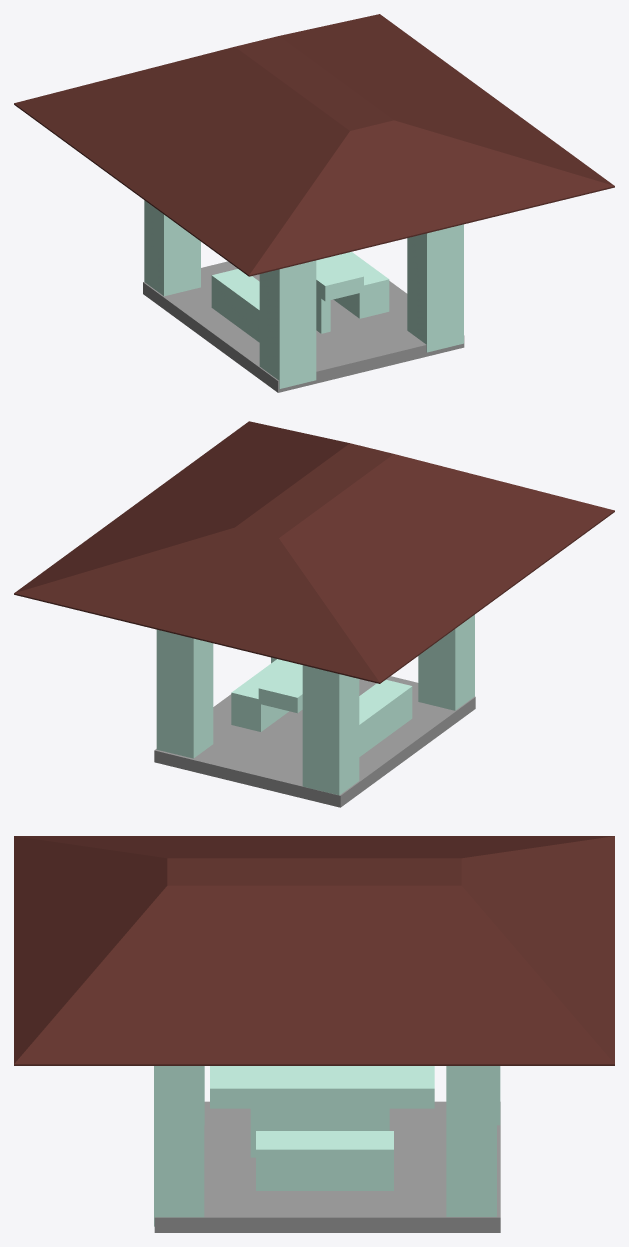
Rendered from Lib_Shed_FIN.glb.
3 renders of one model, top to bottom at view 1: azimuth 30°, elevation 25°; view 2: azimuth 150°, elevation 25°; view 3: azimuth 270°, elevation 25°, orthographic. The views are drawn at different scales.
Visible parts, largest first — view 1: Cube.002, Cube, Cube.005, Cube.003, Cube.006, Cube.007, Cube.008, Cube.001; view 2: Cube.002, Cube, Cube.006, Cube.004, Cube.005, Cube.007, Cube.008, Cube.001; view 3: Cube.002, Cube, Cube.001, Cube.008, Cube.003, Cube.004, Cube.009, Cube.007.
Part boxes in pixels (<box>): Cube.002: <box>14,14,614,276</box>; Cube: <box>143,261,464,392</box>; Cube.005: <box>259,260,316,388</box>; Cube.003: <box>407,224,463,352</box>; Cube.006: <box>144,200,200,296</box>; Cube.007: <box>211,269,259,342</box>; Cube.008: <box>333,252,389,318</box>; Cube.001: <box>316,255,363,301</box>; Cube.002: <box>14,421,614,683</box>; Cube: <box>154,676,475,807</box>; Cube.006: <box>302,665,359,795</box>; Cube.004: <box>156,629,213,758</box>; Cube.005: <box>418,614,474,710</box>; Cube.007: <box>359,679,412,756</box>; Cube.008: <box>231,659,292,731</box>; Cube.001: <box>258,663,302,713</box>; Cube.002: <box>14,836,614,1065</box>; Cube: <box>154,1101,500,1232</box>; Cube.001: <box>210,1066,434,1108</box>; Cube.008: <box>256,1131,393,1190</box>; Cube.003: <box>154,1066,204,1226</box>; Cube.004: <box>446,1066,496,1216</box>; Cube.009: <box>250,1108,349,1157</box>; Cube.007: <box>350,1108,389,1130</box>.
Size of what is drawn, in the model's own units: 8.87 by 5.55 by 9.88.
